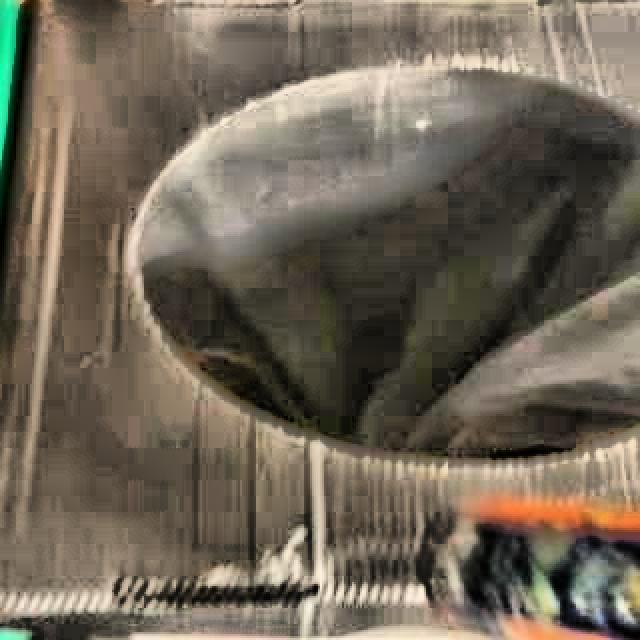metal: (429, 498, 640, 640)
